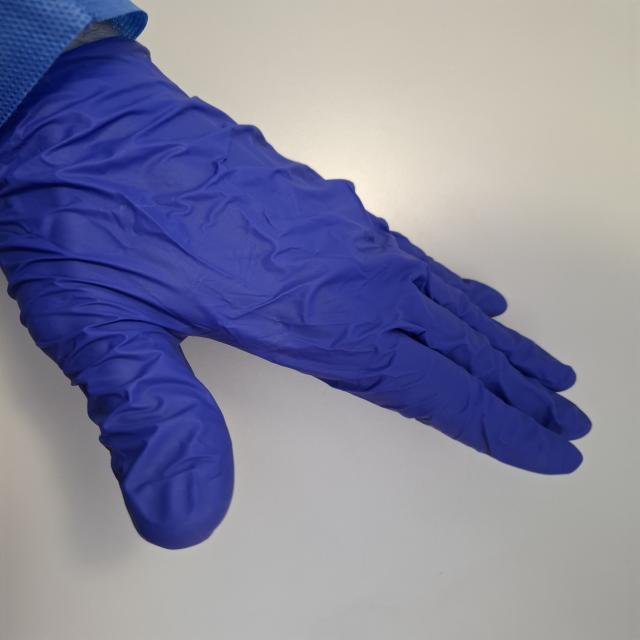glove_on: (0, 21, 599, 552)
